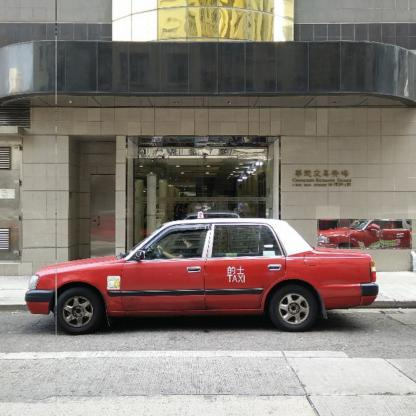Car: (25, 219, 378, 335)
